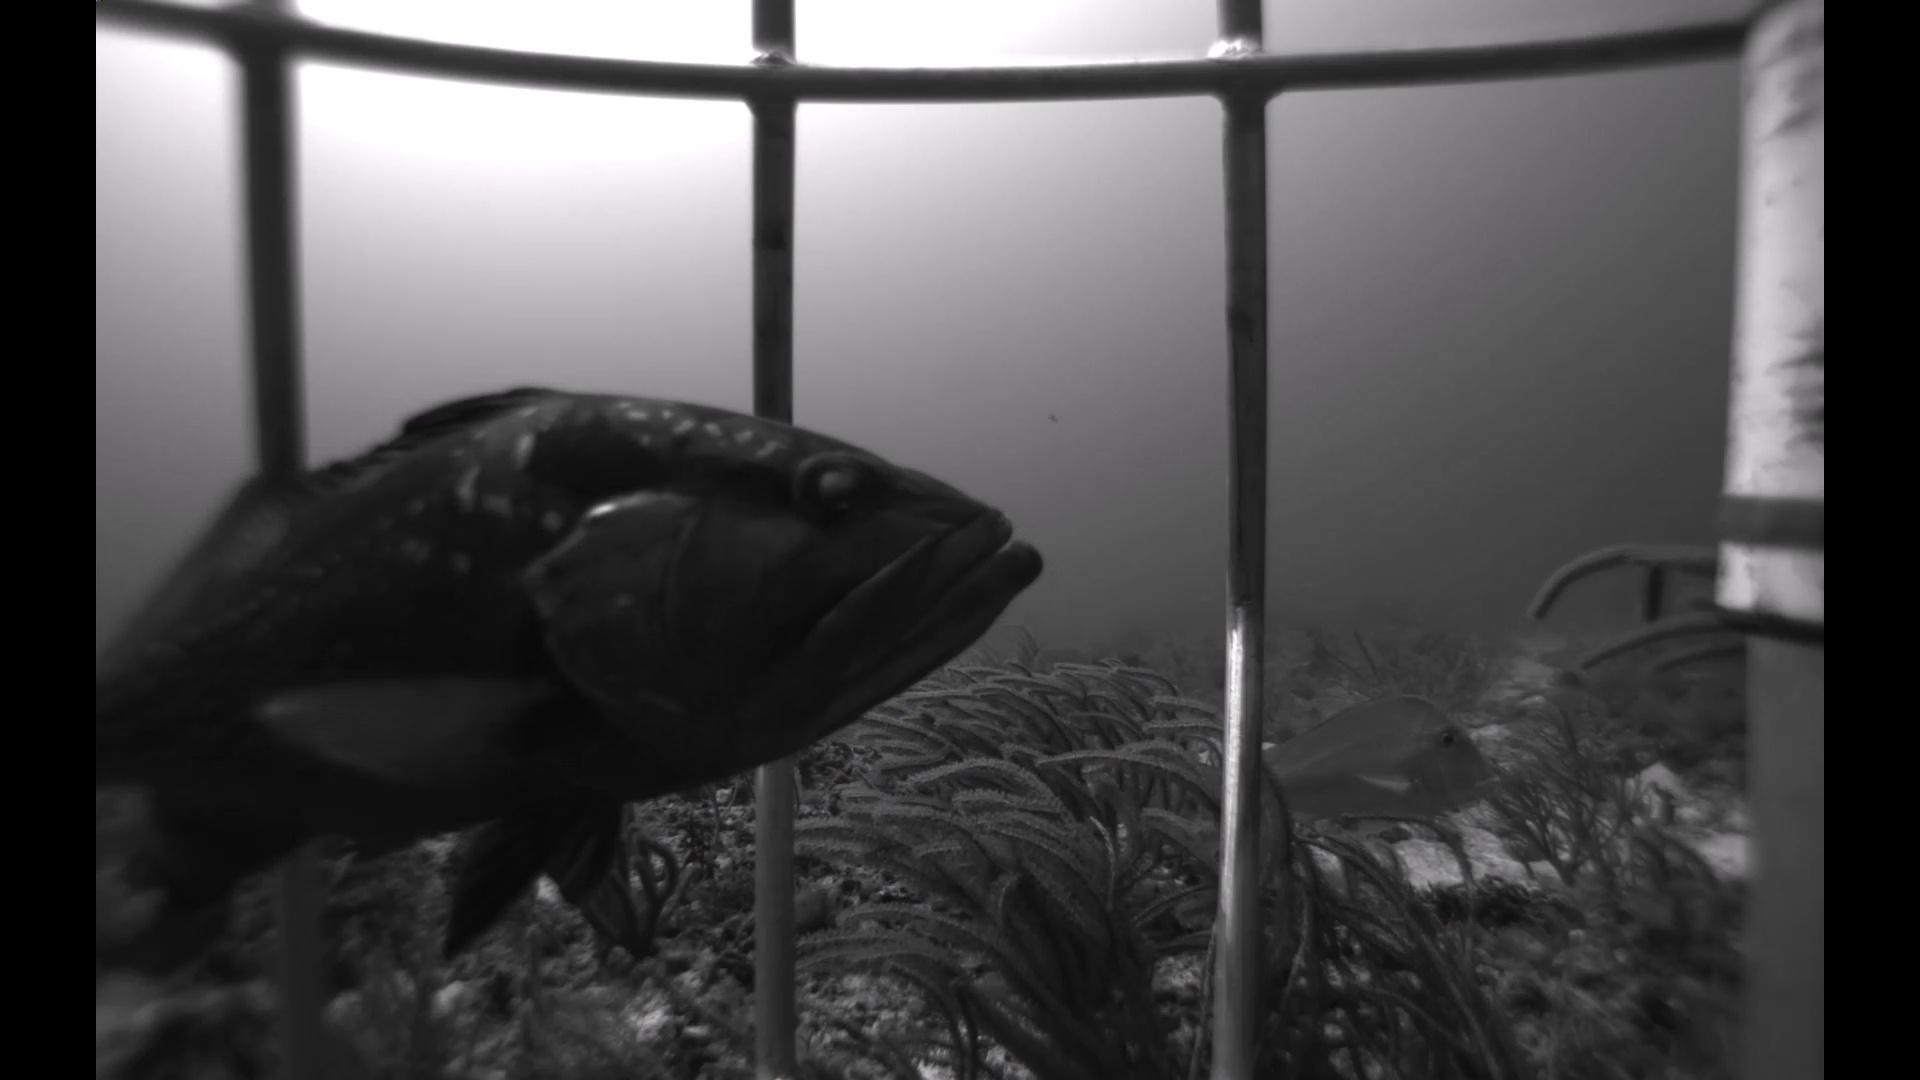CALAMUSNODOSUS-170210608: (1172, 679, 1513, 869)
EPINEPHELUSMORIO-170021211: (108, 369, 1077, 984)
LUTJANUSGRISEUS-170151109: (831, 679, 945, 771)
